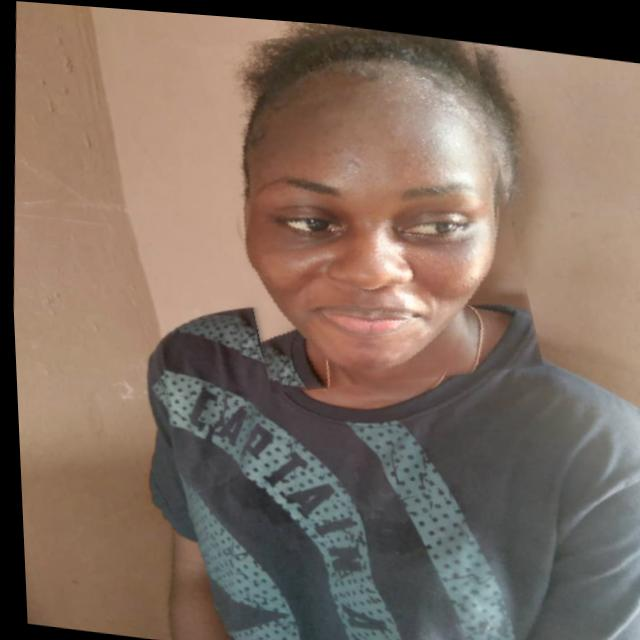happy: (195, 11, 541, 405)
